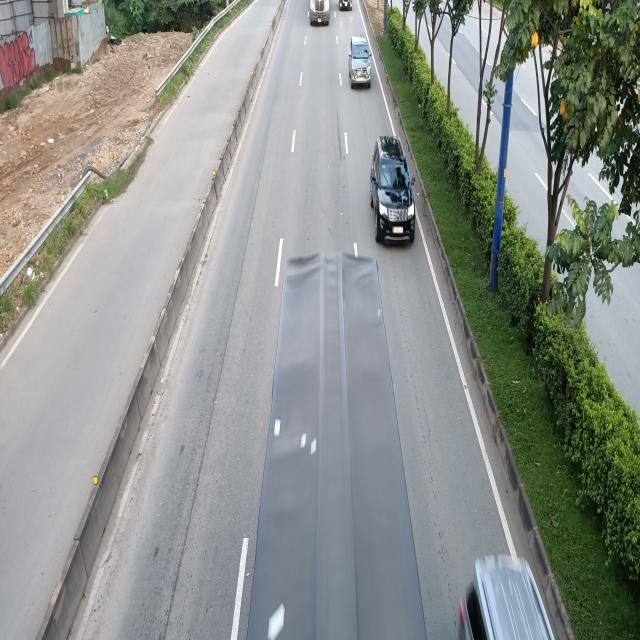car: (370, 135, 415, 246), (348, 37, 372, 89)
container: (308, 0, 332, 26)
truck: (245, 255, 431, 640)
